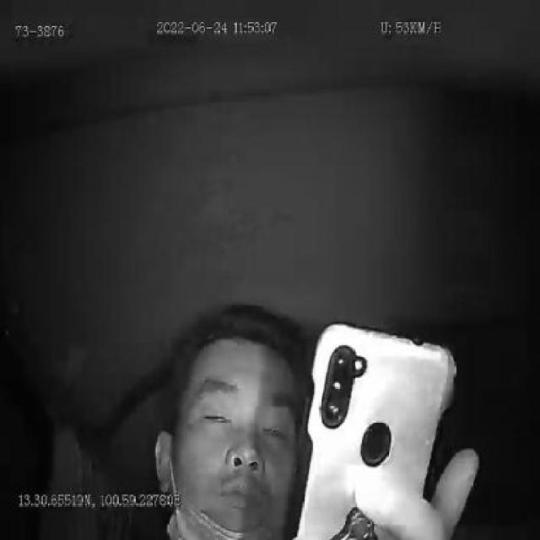phone: (294, 324, 456, 540)
